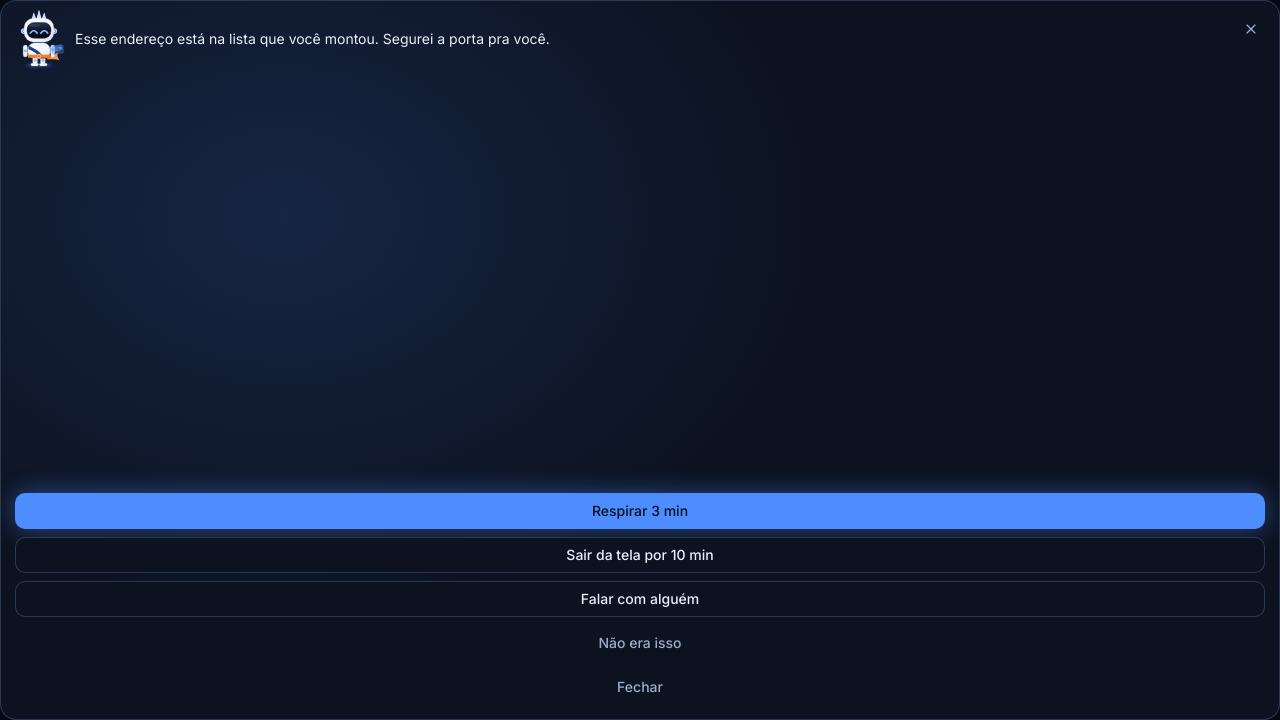
Test: the card window › "Não era isso" that becomes a request that waits says so, without naming the site or a list
The image size is (1280, 720).
Expected: the message "Esse endereço está na lista que você montou. Segurei a porta pra você." is shown, [75,30,550,47]
Click the button "Não era isso".
click(640, 643)  # box [15,625,1265,661]
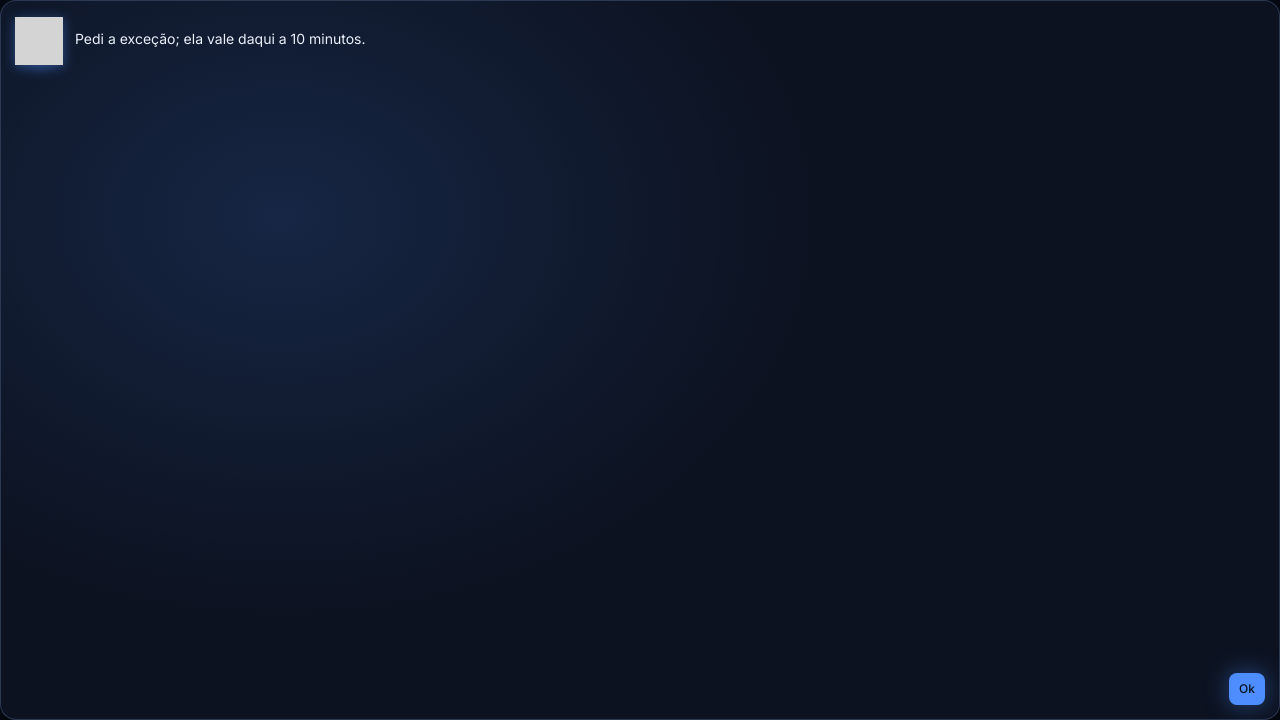
Now the message with test id "card-message" reads "Pedi a exceção; ela vale daqui a 10 minutos.", box [75,30,366,47]
